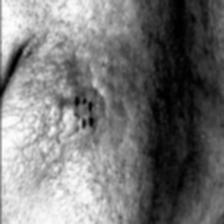Potentially Malignant Skin Tumors: (54, 86, 100, 132)
